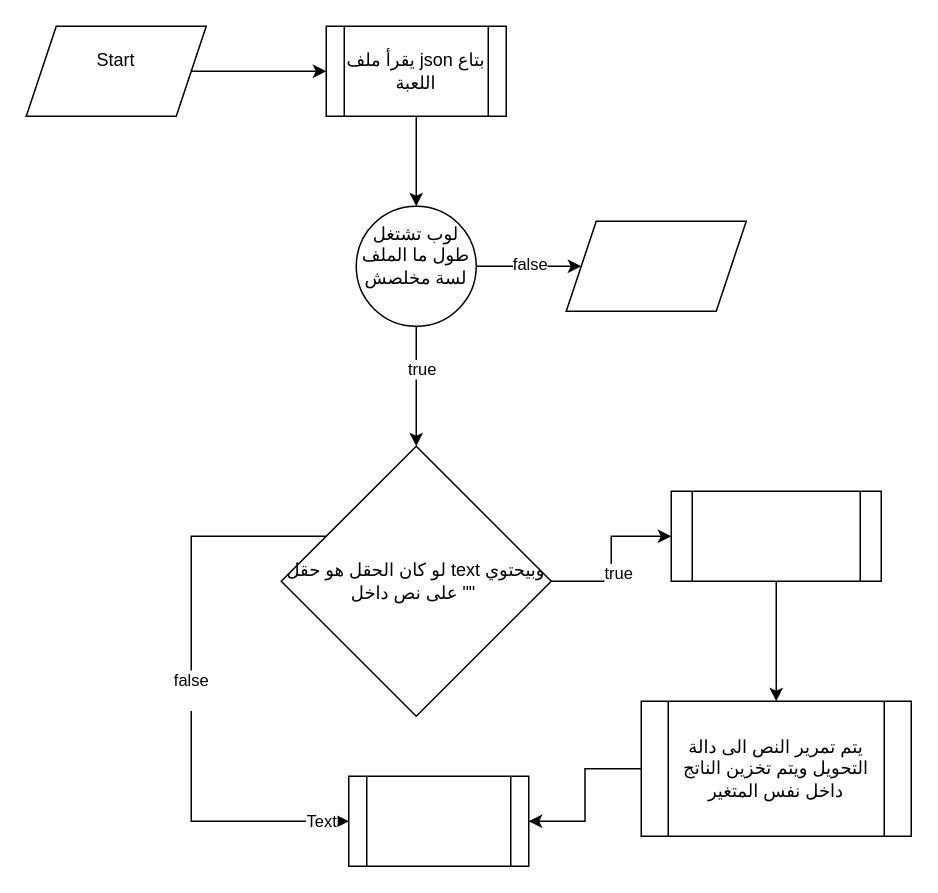
The diagram is 938 pixels wide and 893 high, and some of its shapes have lost their labels. The centre of each missing label's shape, as x and y in pixels:
End: point (655, 265)
كتابة السطر في نهاية الملف الجديد: point (438, 820)
يتم تمرير النص الى دالة الترجمة وتخزين الناتج: point (775, 535)
